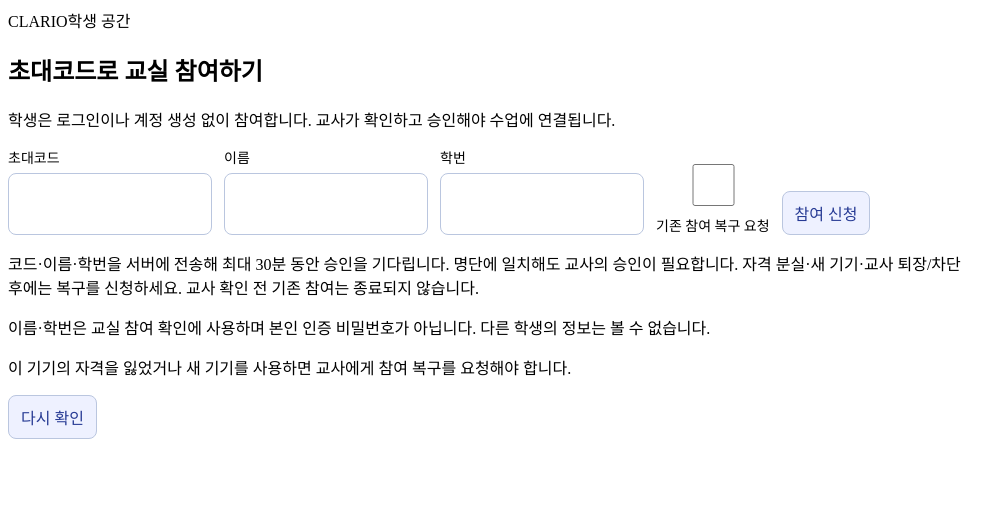
Test: account-free student workspace › explicitly requests recovery and keeps input after a rate-limit error
Type "ABCDEFGHJKLM" into the field labelled "초대코드" at (110, 204), box [8,173,212,235]
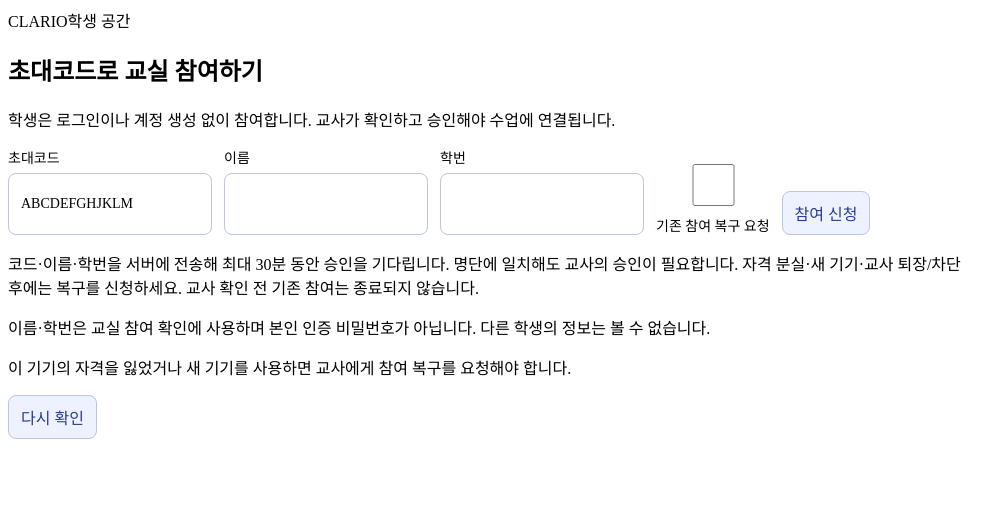
Type "학생" into the field labelled "이름" at (326, 204), box [224,173,428,235]
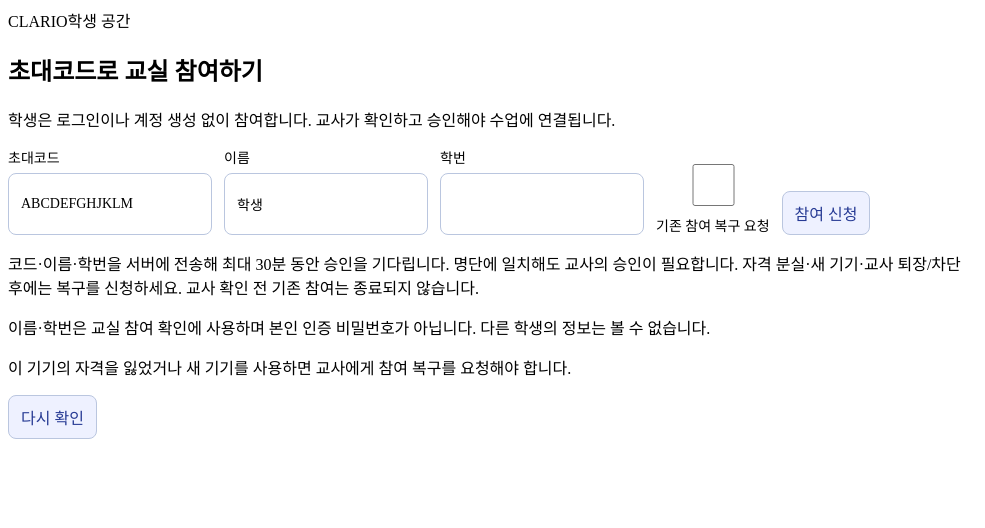
Type "001" into the field labelled "학번" at (542, 204), box [440,173,644,235]
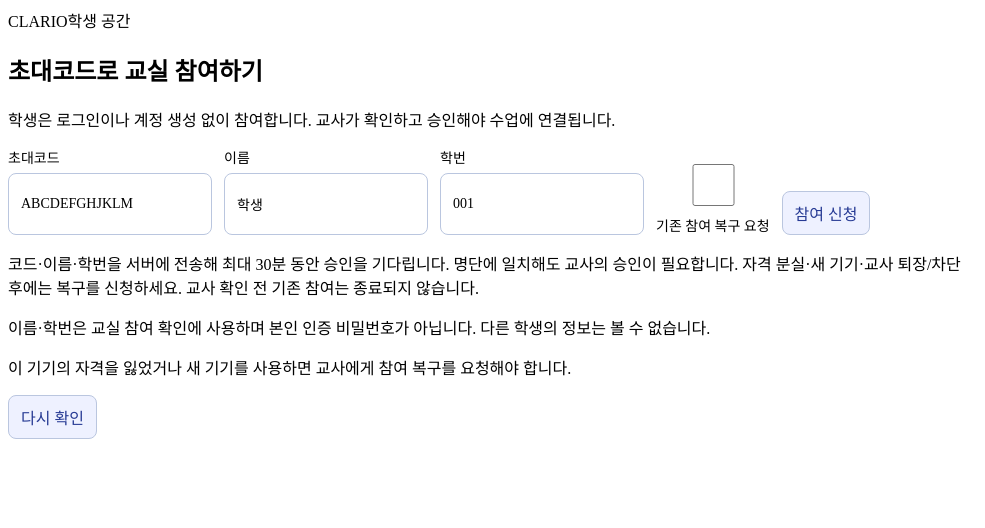
Click the checkbox labelled "기존 참여 복구 요청" at (713, 185), box [660,164,766,206]
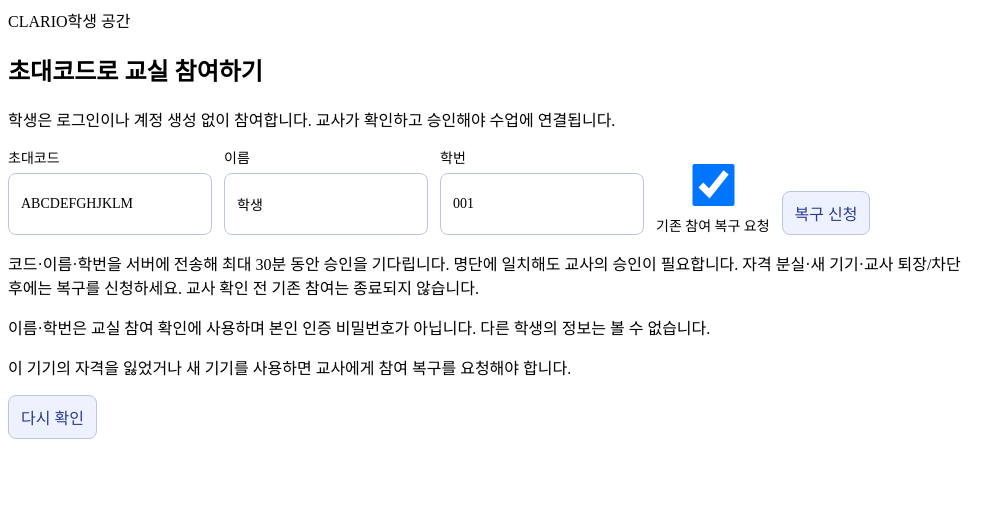
Submit the form "복구 신청", box [8,147,968,235]
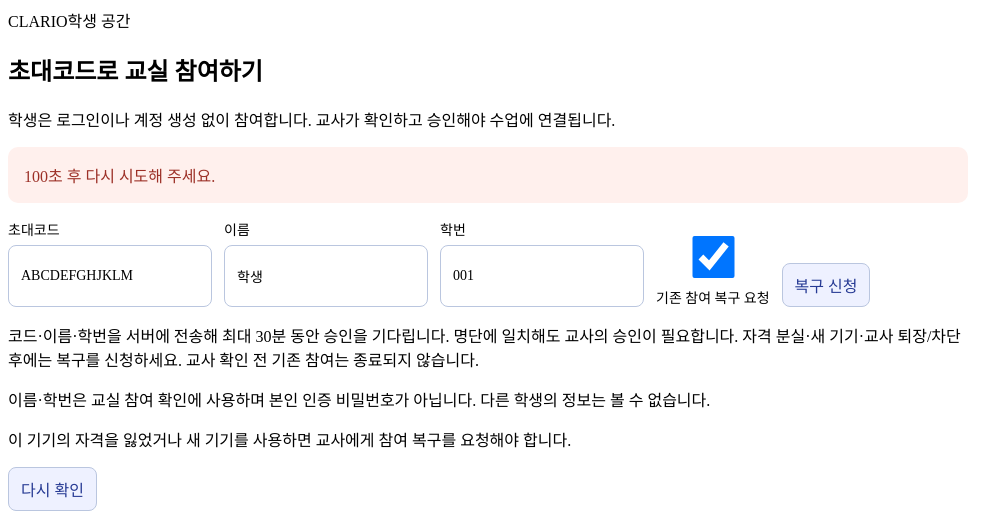
Check: the message shows "100초", box [24,168,215,185]
